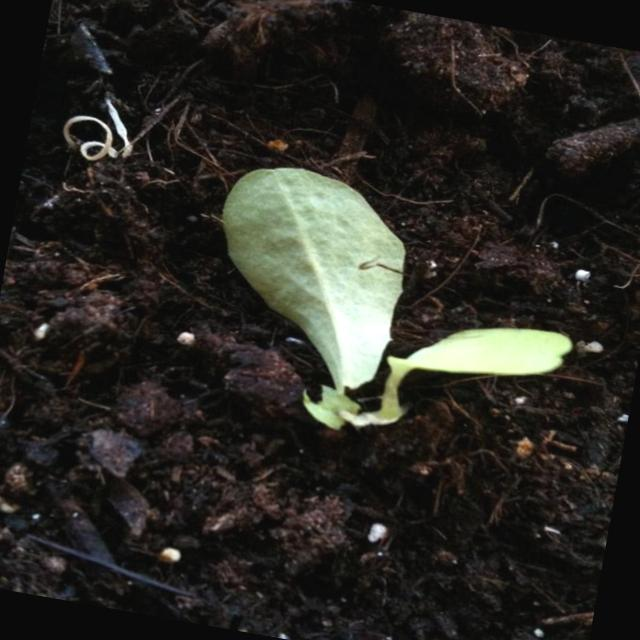verde: (222, 168, 572, 429)
